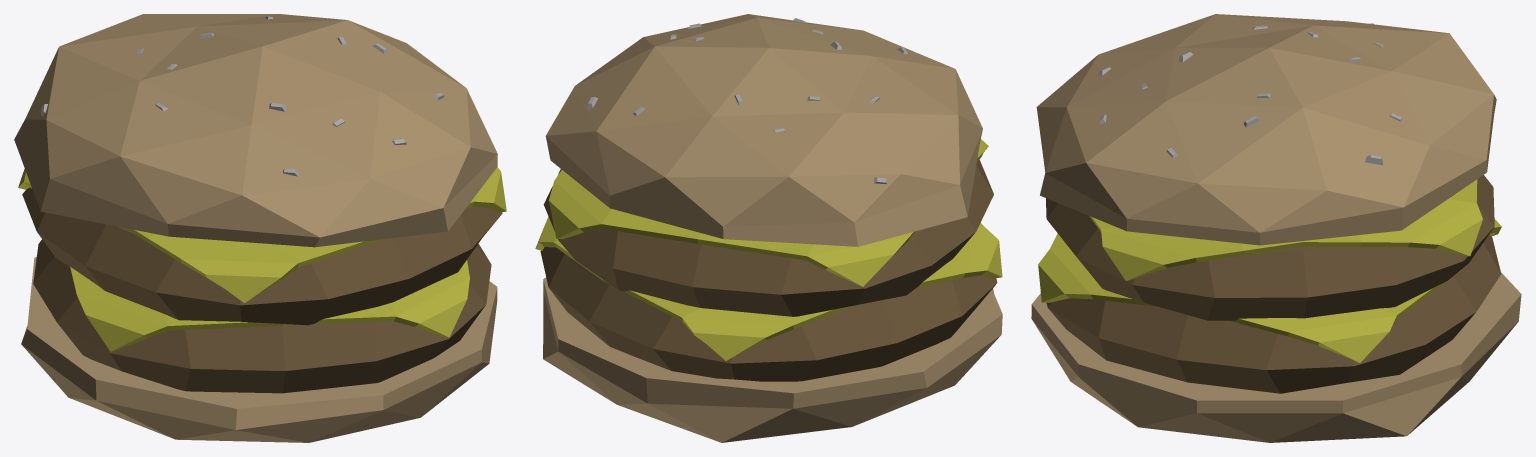
The model's file is Double Cheeseburger.glb.
3 renders of one model, left to right at view 1: azimuth 30°, elevation 25°; view 2: azimuth 150°, elevation 25°; view 3: azimuth 270°, elevation 25°, orthographic. The views are drawn at different scales.
Parts seen in each view (by area): view 1: DoubleCheeseburger; view 2: DoubleCheeseburger; view 3: DoubleCheeseburger.
Boxes of the visible parts, <box> form: DoubleCheeseburger: <box>14,14,506,442</box>; DoubleCheeseburger: <box>535,14,1002,442</box>; DoubleCheeseburger: <box>1031,14,1521,442</box>.
Size of the model in its own units: 0.1357 by 0.1088 by 0.14.
